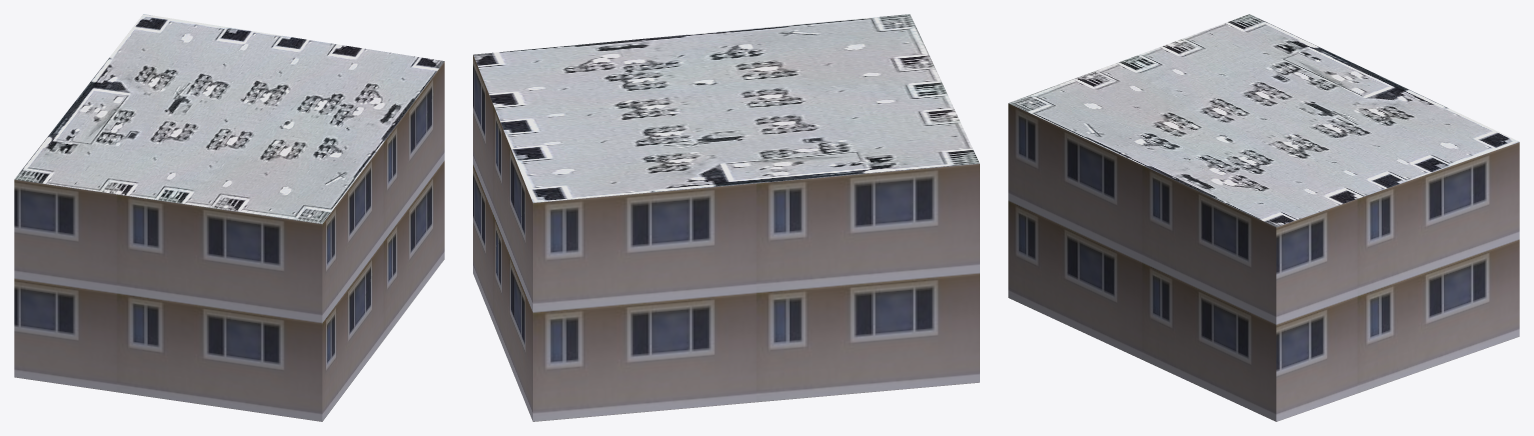
The model's file is ResTex__1633.fbx.
3 views of the same model, side by side, from view 1: azimuth 30°, elevation 25°; view 2: azimuth 150°, elevation 25°; view 3: azimuth 270°, elevation 25° (orthographic). The views are drawn at different scales.
Visible parts, largest first — view 1: CityEngineMaterial_21_m, CityEngineMaterial_8_m; view 2: CityEngineMaterial_21_m, CityEngineMaterial_8_m; view 3: CityEngineMaterial_21_m, CityEngineMaterial_8_m.
Boxes of the visible parts, bbox=[...] form: CityEngineMaterial_21_m: bbox=[14, 62, 444, 421]; CityEngineMaterial_8_m: bbox=[14, 14, 444, 223]; CityEngineMaterial_21_m: bbox=[473, 55, 979, 421]; CityEngineMaterial_8_m: bbox=[473, 14, 979, 202]; CityEngineMaterial_21_m: bbox=[1008, 103, 1519, 421]; CityEngineMaterial_8_m: bbox=[1008, 14, 1519, 226].
Size of the model in its own units: 14.09 by 6 by 14.28.
2 materials, 2 textured.
